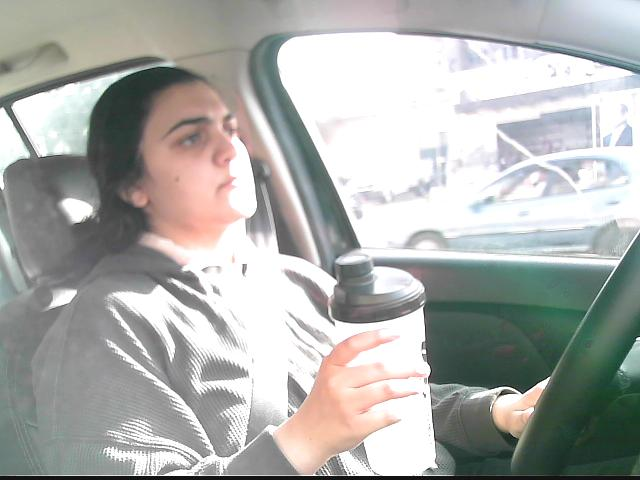Drinking: (327, 244, 437, 480)
